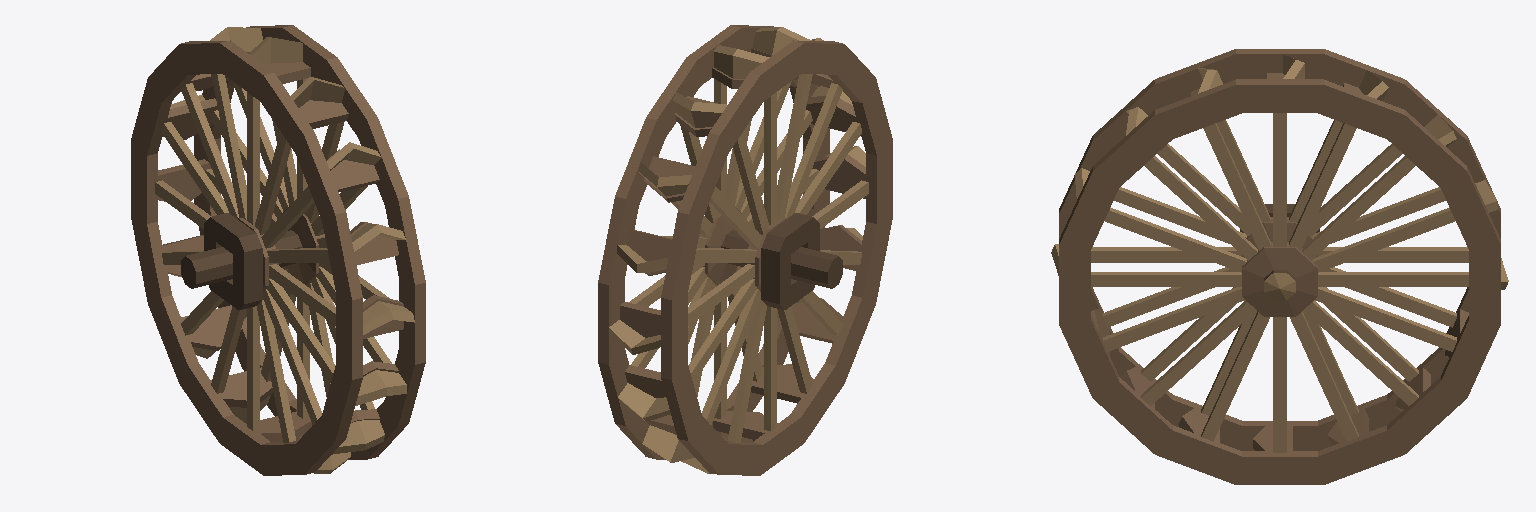
The model's file is Waterwheel_1.obj.
3 views of the same model, side by side, from view 1: azimuth 30°, elevation 25°; view 2: azimuth 150°, elevation 25°; view 3: azimuth 270°, elevation 25° (orthographic).
Visible parts, largest first — view 1: waterwheel; view 2: waterwheel; view 3: waterwheel.
Boxes of the visible parts, x1=… form: waterwheel: x1=131, y1=25, x2=425, y2=475; waterwheel: x1=598, y1=25, x2=892, y2=475; waterwheel: x1=1051, y1=49, x2=1508, y2=484.
Size of the model in its own units: 1.5 by 4.4 by 4.4.